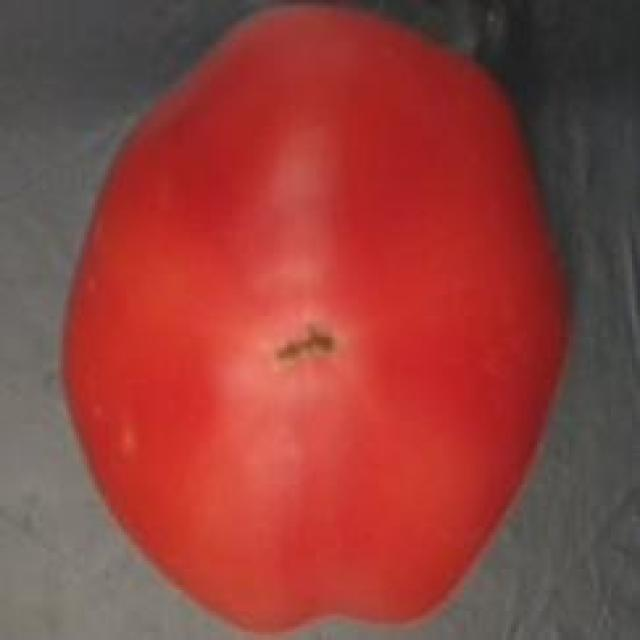overripe tomato: (53, 0, 582, 640)
